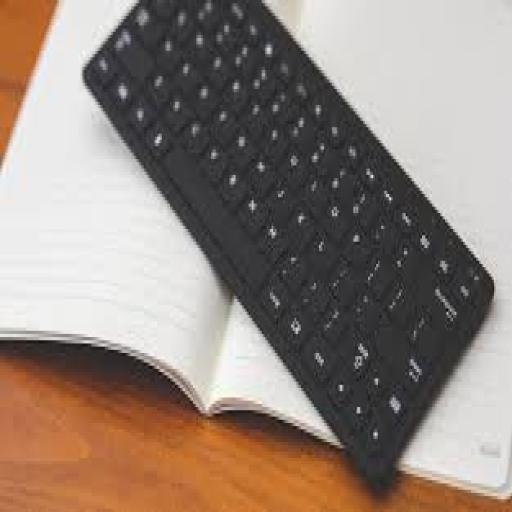KEYBOARD-2: (83, 0, 492, 483)
